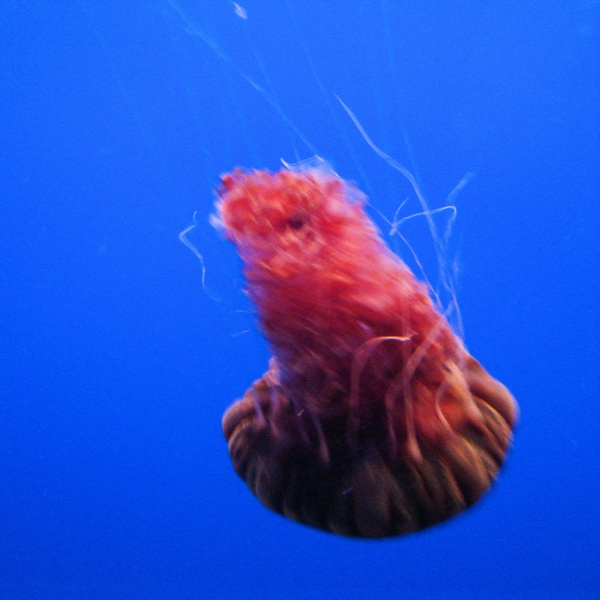Jellyfish: (195, 125, 525, 538)
